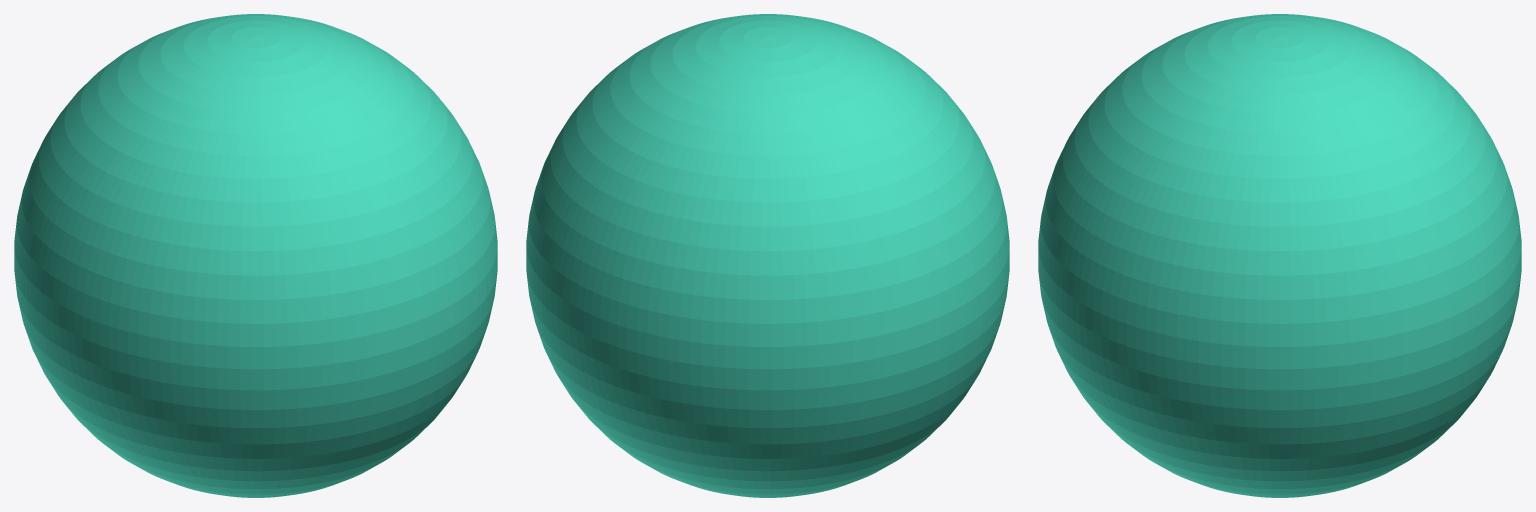
File: ball_cyan.glb
3 views of the same model, side by side, from view 1: azimuth 30°, elevation 25°; view 2: azimuth 150°, elevation 25°; view 3: azimuth 270°, elevation 25° (orthographic).
Visible parts, largest first — view 1: geometry_0; view 2: geometry_0; view 3: geometry_0.
Part boxes in pixels (bbox=[...]): geometry_0: bbox=[14, 14, 497, 497]; geometry_0: bbox=[526, 14, 1009, 497]; geometry_0: bbox=[1038, 14, 1521, 497].
Size of the model in its own units: 0.2197 by 0.22 by 0.2197.
